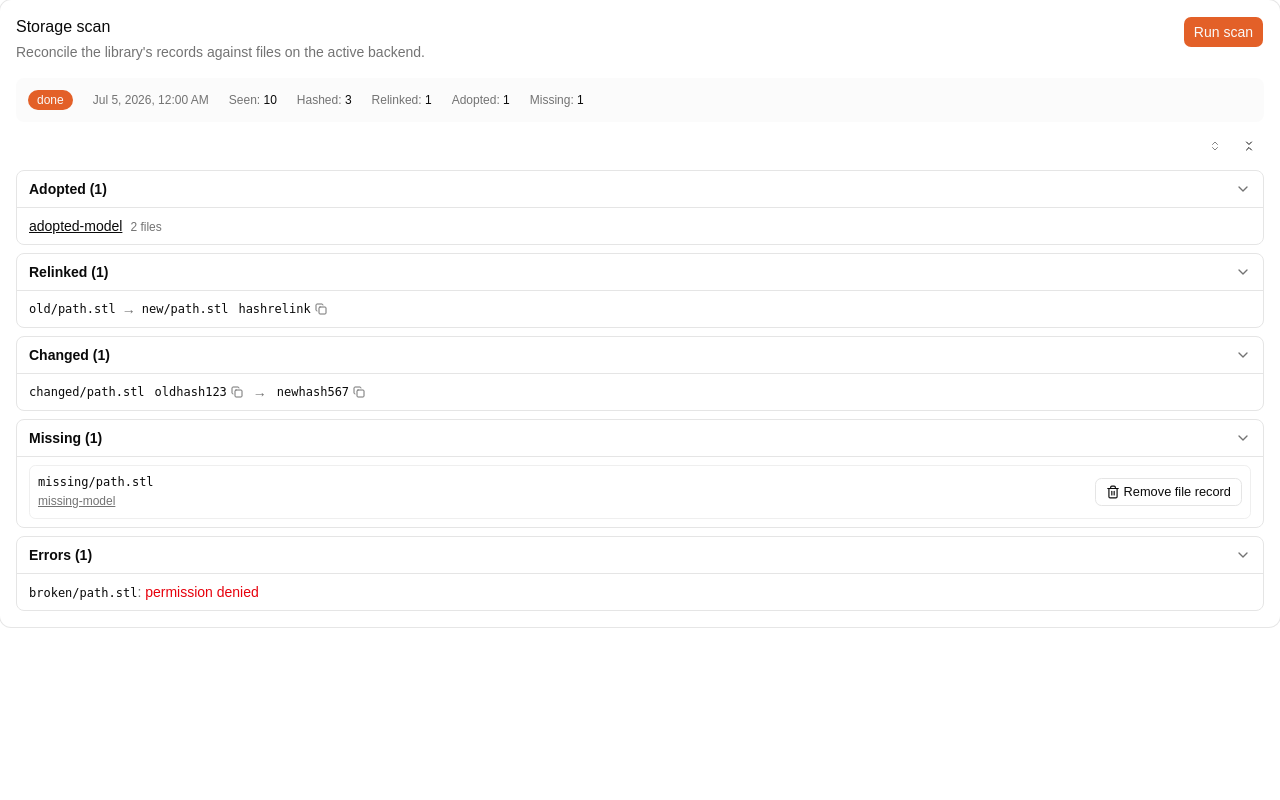
Test: ScanReport › resolves a missing row by deleting the file record after confirming
Check: the text "Missing (1)" is shown, box [29,428,102,448]
Click the button "Remove file record" at (1168, 492), box [1095,478,1242,506]
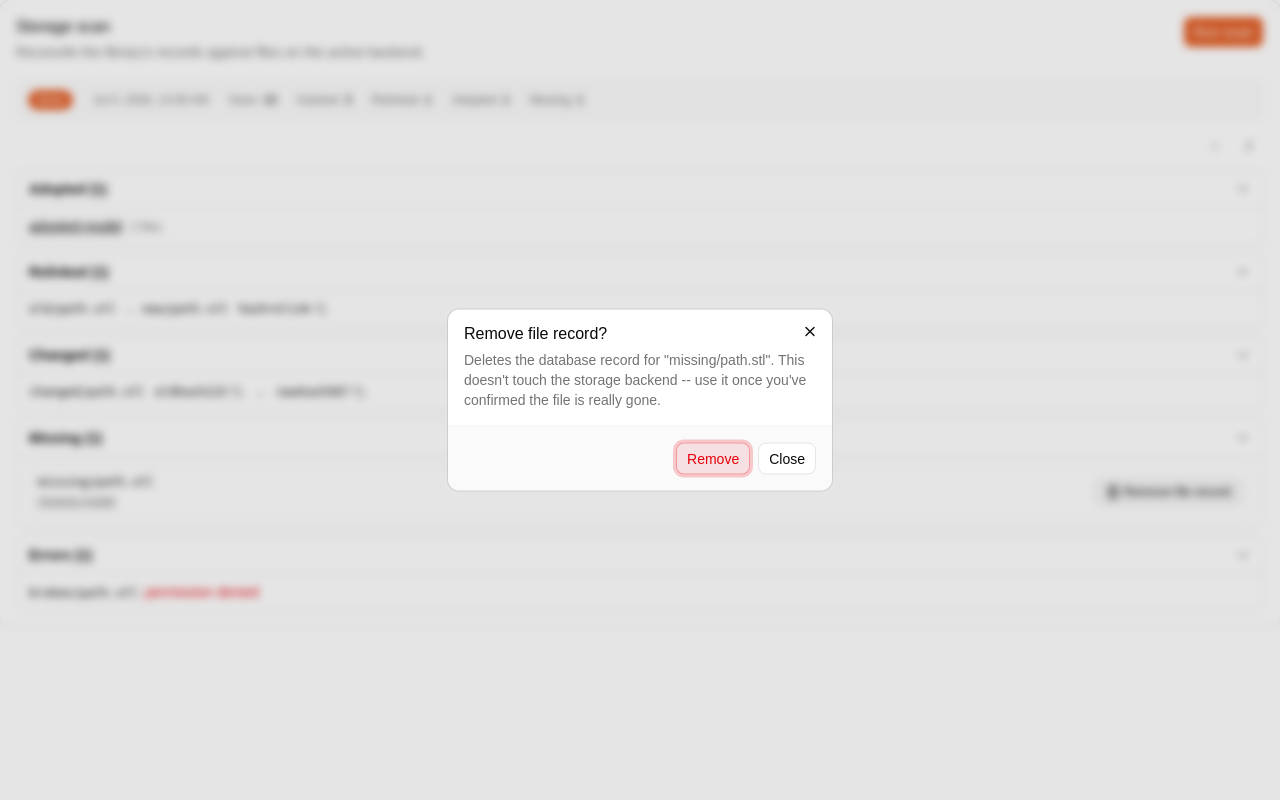
Click the button "Remove" at (713, 458), box [676,442,750,474]
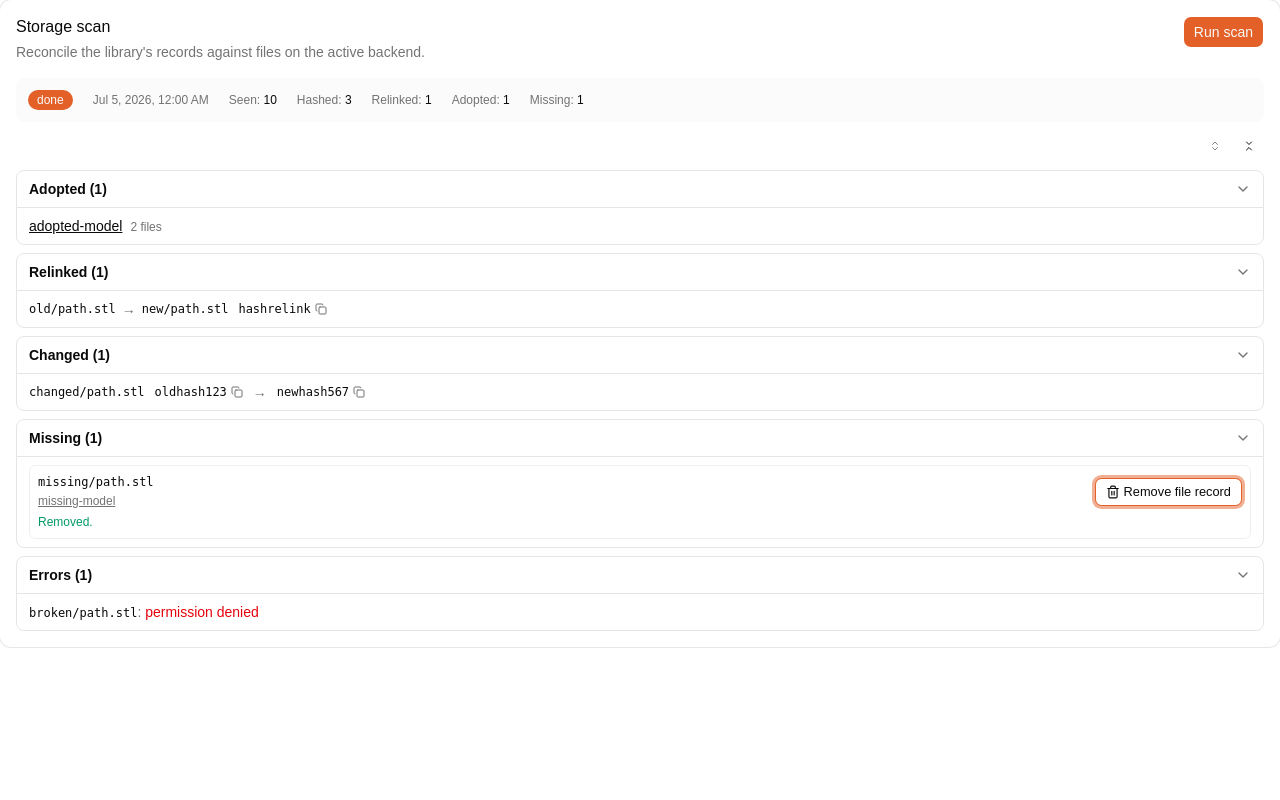
Check: the text "Removed." is shown, box [38,515,93,529]
